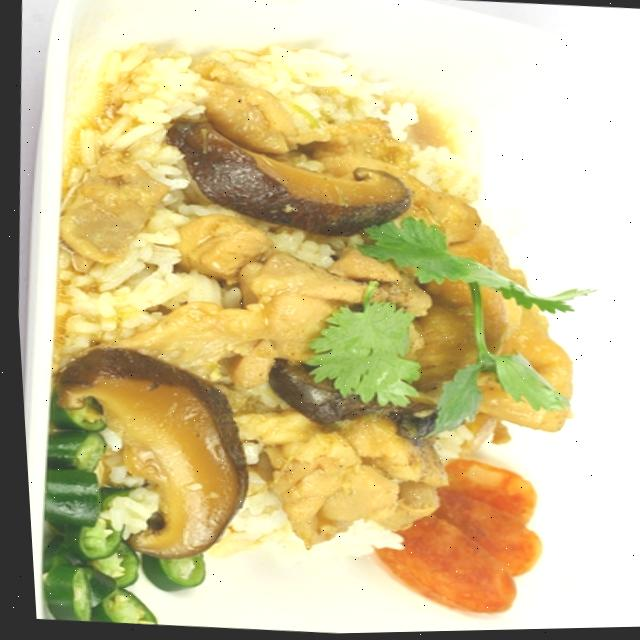米饭主食: (7, 7, 611, 640)
